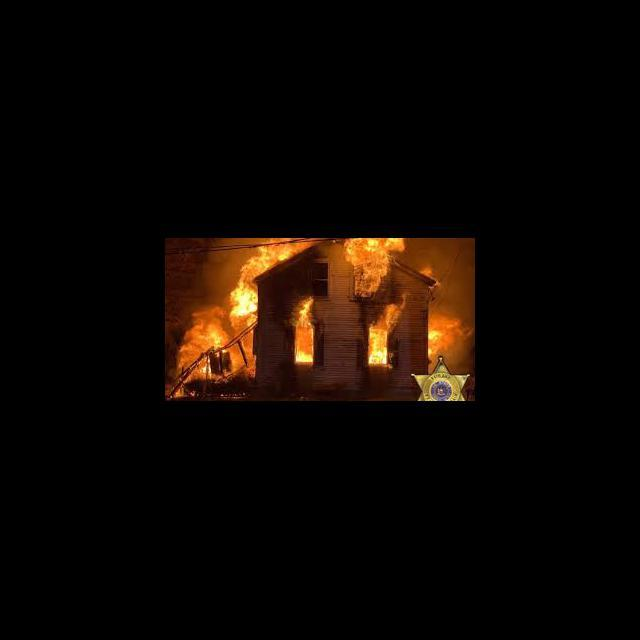Fire: (176, 262, 260, 384), (343, 238, 405, 298), (366, 297, 404, 367), (428, 298, 472, 356), (248, 240, 315, 272), (292, 295, 322, 366), (419, 266, 440, 286), (170, 386, 193, 400)
